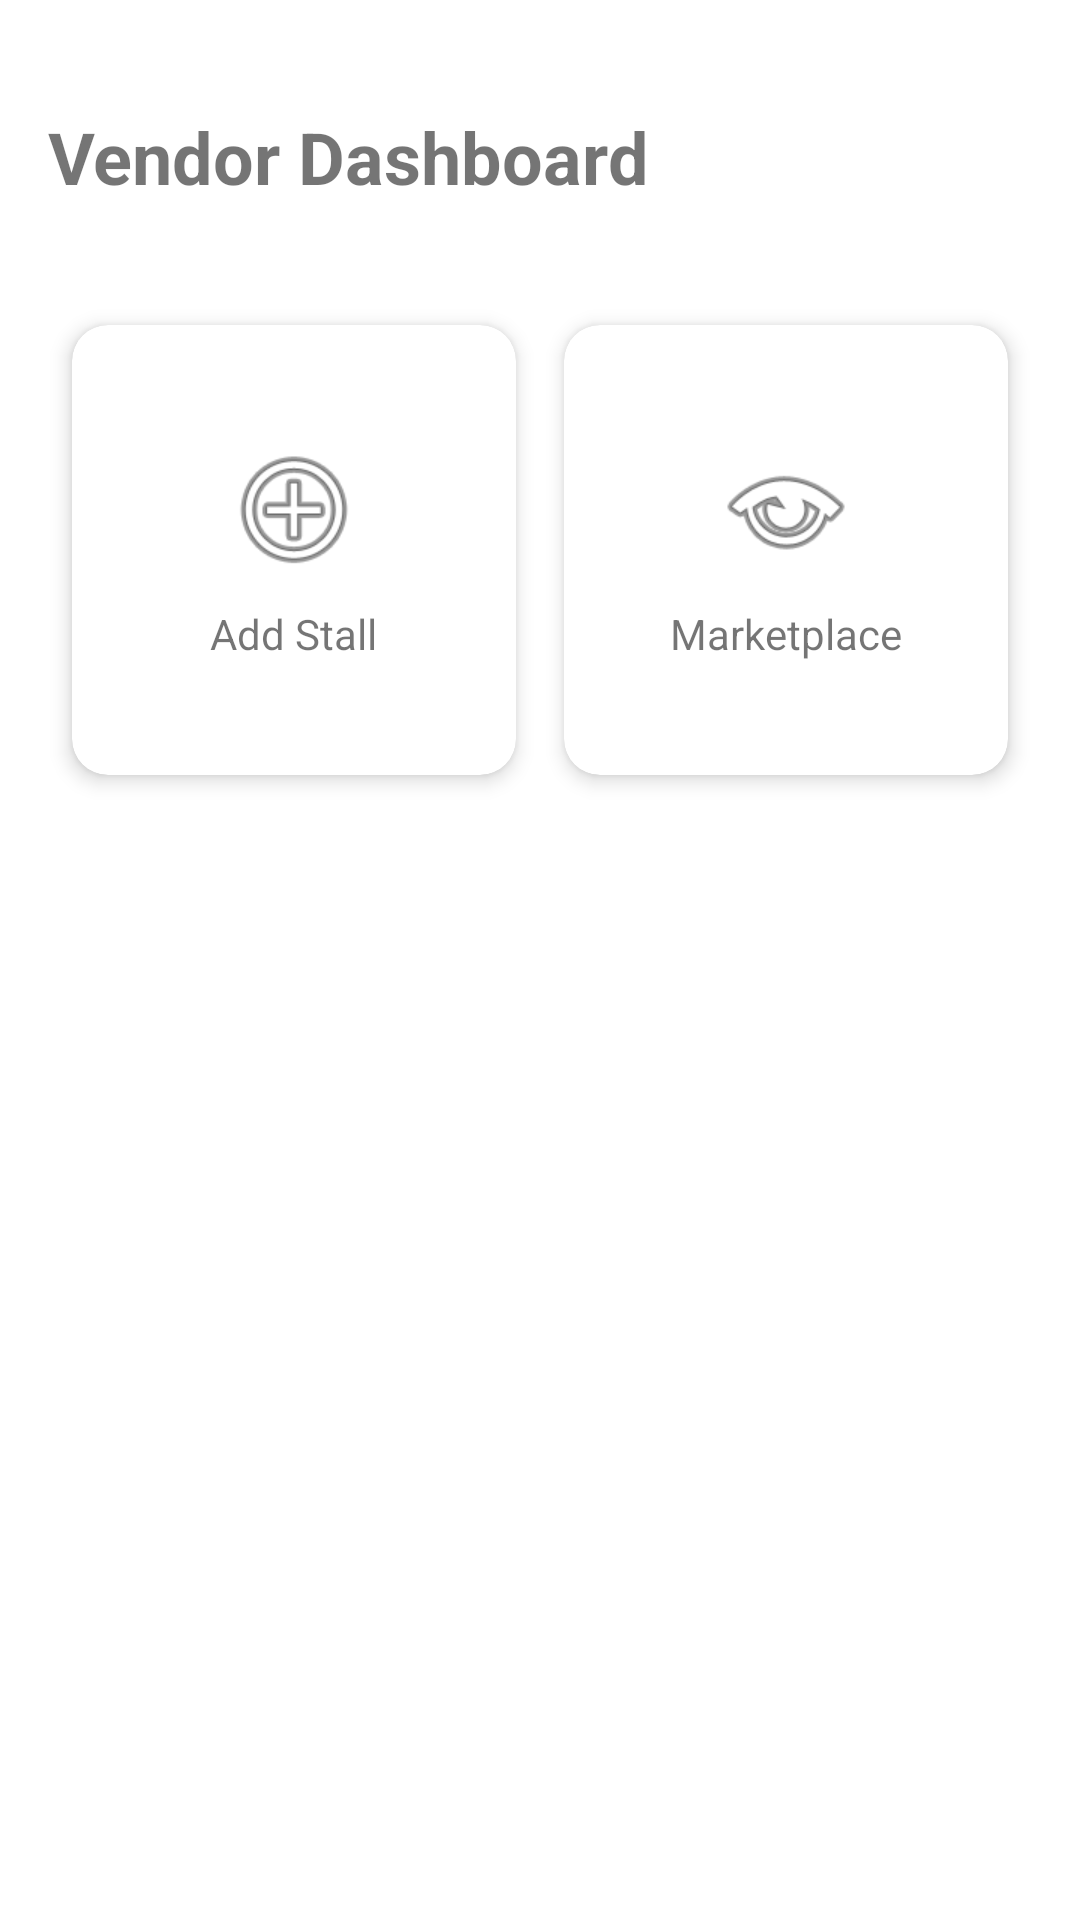

Icons on this 1080px x 1920px Android screen, each with the point to tap as (x,y):
view: (786,513)
